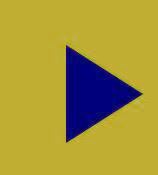ImgButton: (1, 1, 157, 174)
